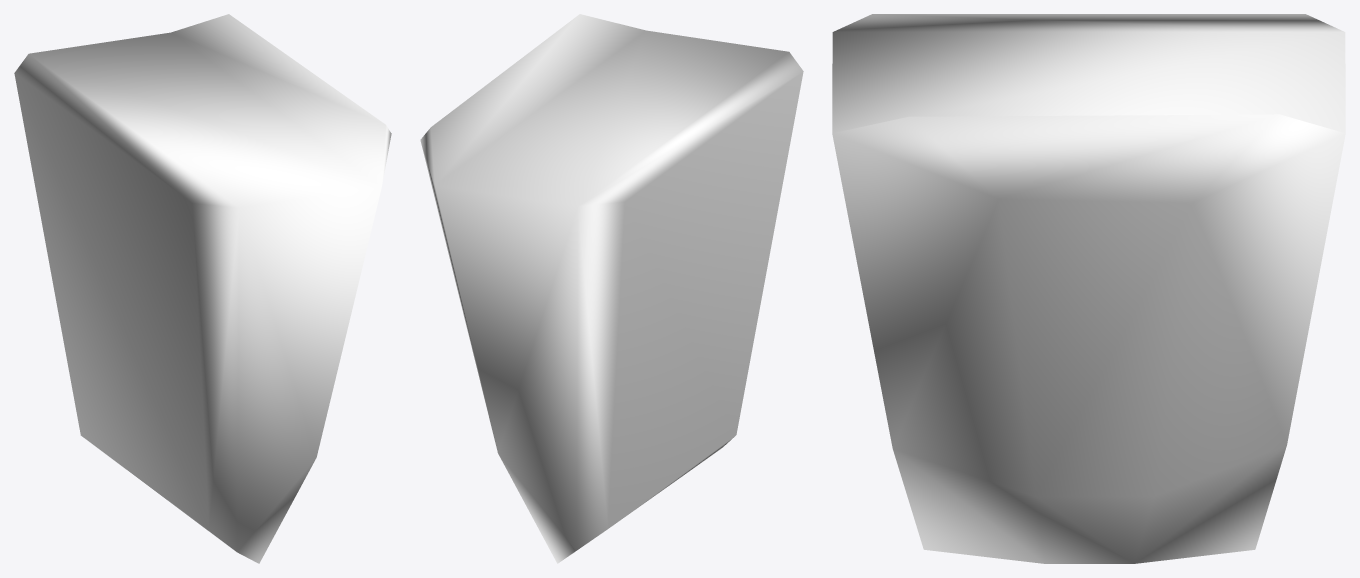
The model's file is indexj3_right.obj.
3 views of the same model, side by side, from view 1: azimuth 30°, elevation 25°; view 2: azimuth 150°, elevation 25°; view 3: azimuth 270°, elevation 25° (orthographic). The views are drawn at different scales.
Bounding box in the file's own units: 0.0111 × 0.0175 × 0.0162.
Materials: 1 (1 with a texture image).
